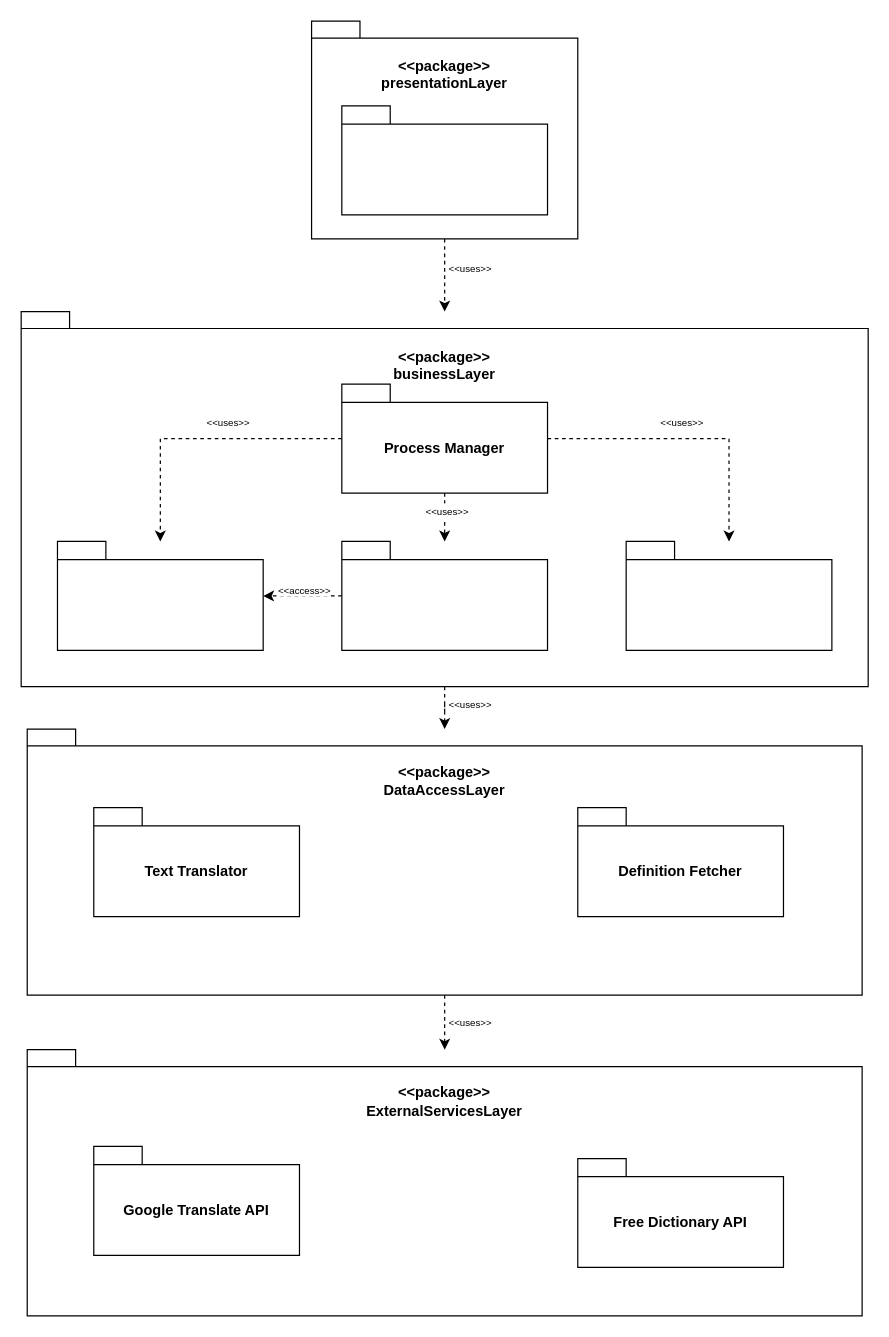
Some shapes in this 889 by 1337 pixel diagram are drawn without their labels. Here are the shapes that lost their labels. From the top down, the centre of each, then its label:
point (444, 160): UI Module
point (159, 595): Document Processing
point (444, 595): Text Analysis
point (728, 595): Document Builder
